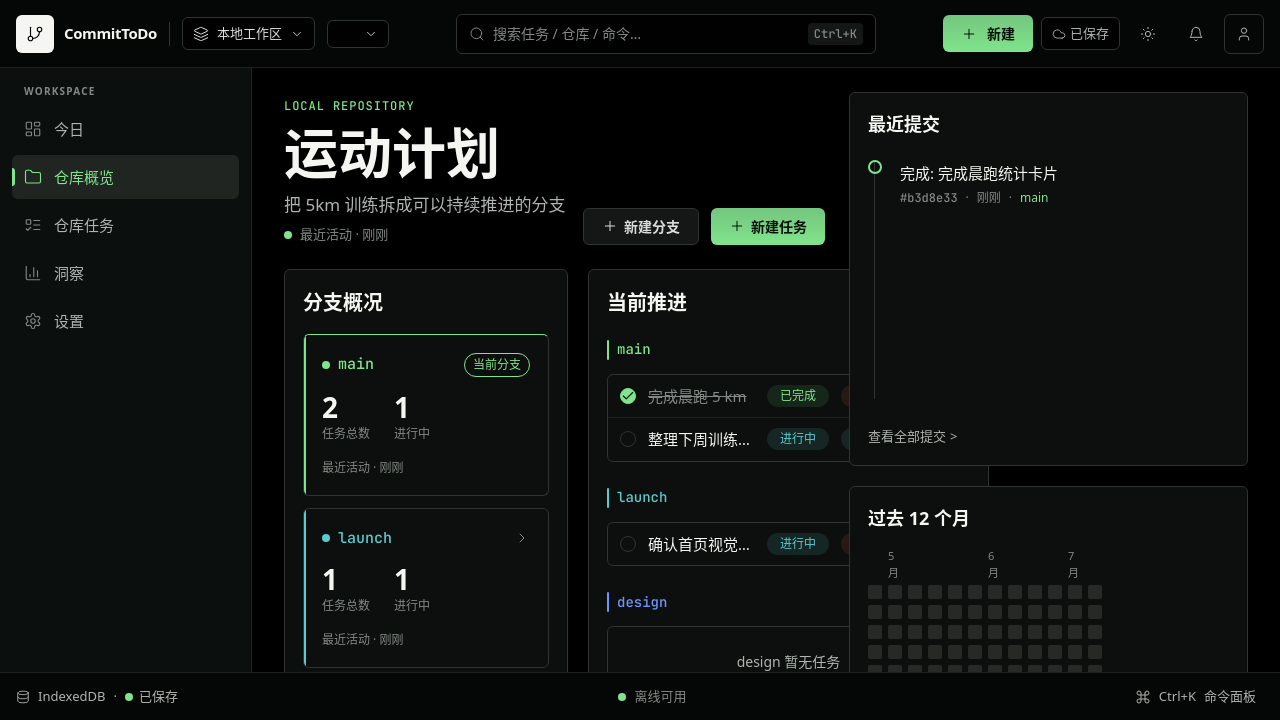
Test: RepositoryOverviewScreen › opens new task panel
The image size is (1280, 720).
What coordinates should you click on to do the following:
click the button "新建任务"
I would click on:
 (768, 226)
Its box is left=711, top=208, right=825, bottom=244.
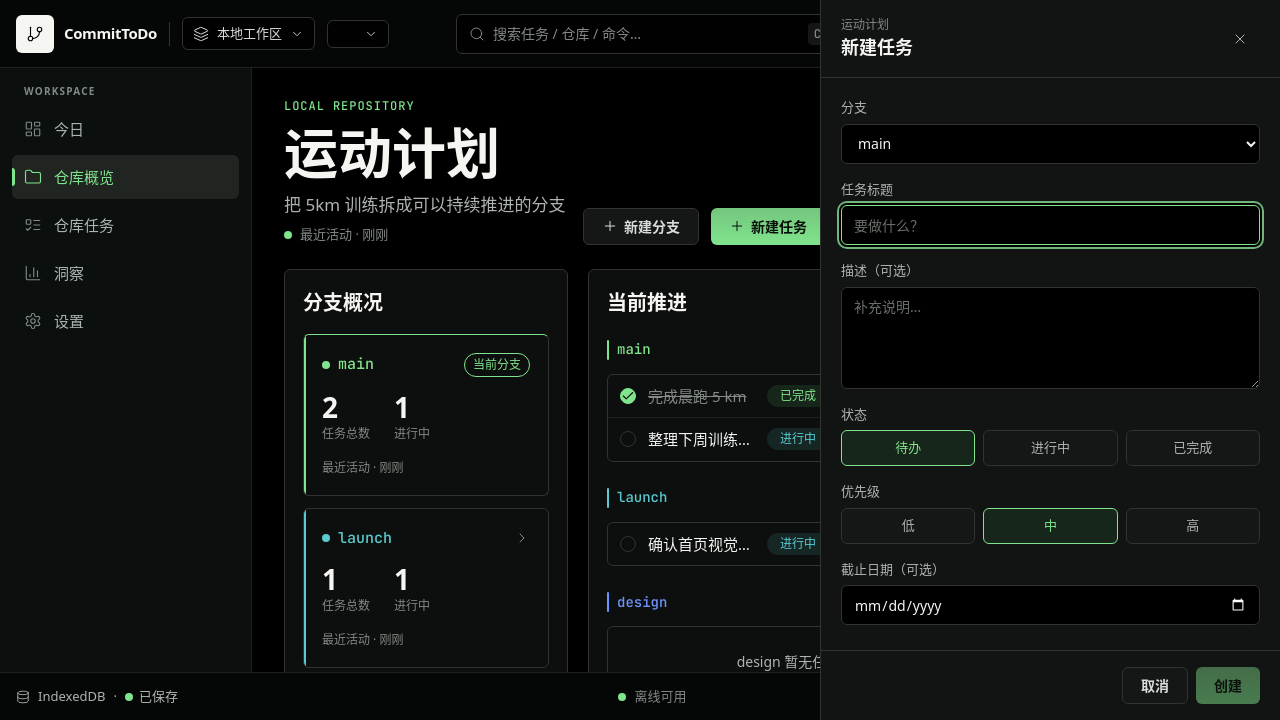
Check: the field labelled "任务标题" is shown, box left=841, top=205, right=1260, bottom=245
